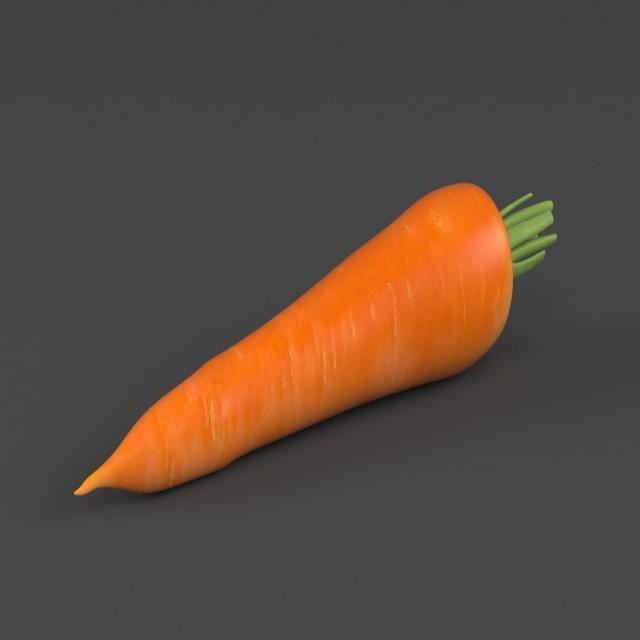carrot: (73, 174, 516, 511)
